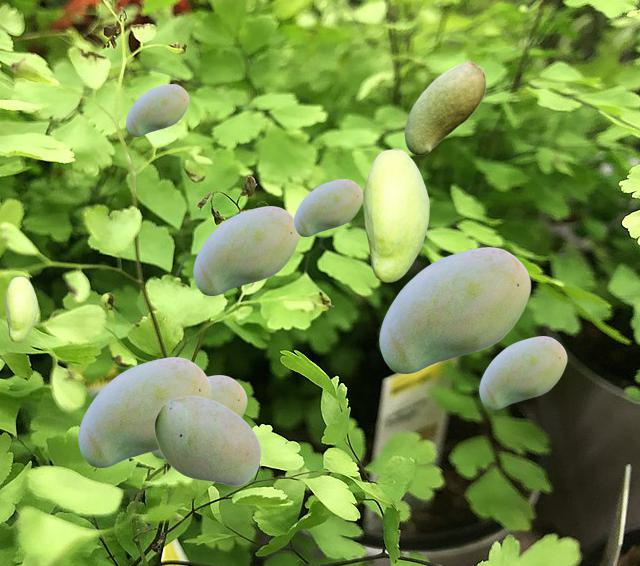green_mango: (379, 247, 530, 372), (78, 357, 210, 466), (154, 395, 260, 485), (193, 206, 299, 294), (363, 148, 428, 281), (151, 375, 246, 457), (404, 60, 485, 154), (479, 336, 566, 408), (294, 179, 362, 235), (126, 84, 188, 135), (5, 276, 36, 341)
